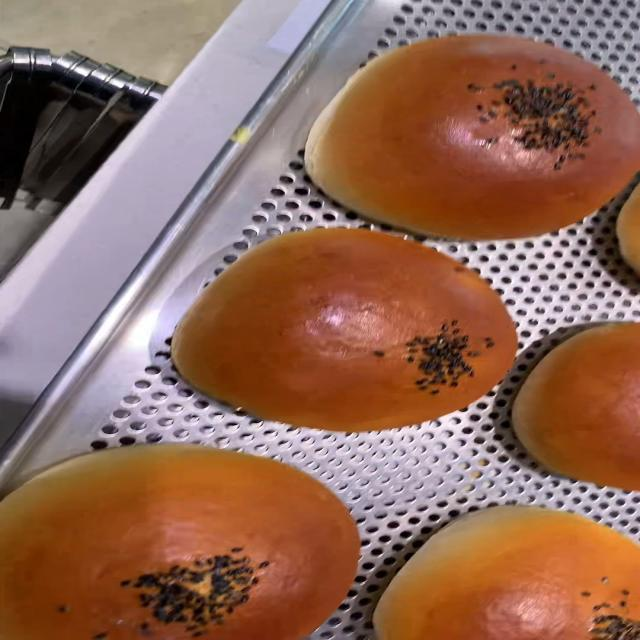bread: (164, 222, 528, 429), (0, 442, 364, 639), (301, 29, 640, 238), (363, 504, 638, 640), (511, 320, 640, 484)
